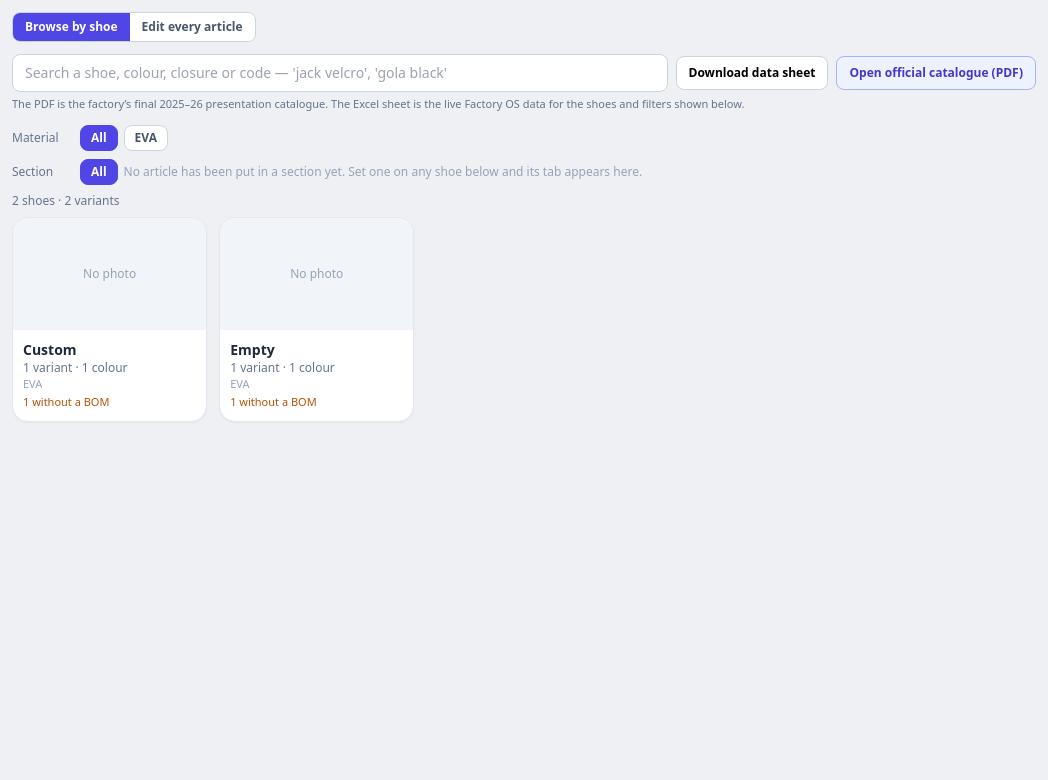
Test: deletes a catalogue-only item after an explicit confirmation
The image size is (1048, 780).
Click the button "Edit every article" at (192, 27), box left=130, top=13, right=255, bottom=41
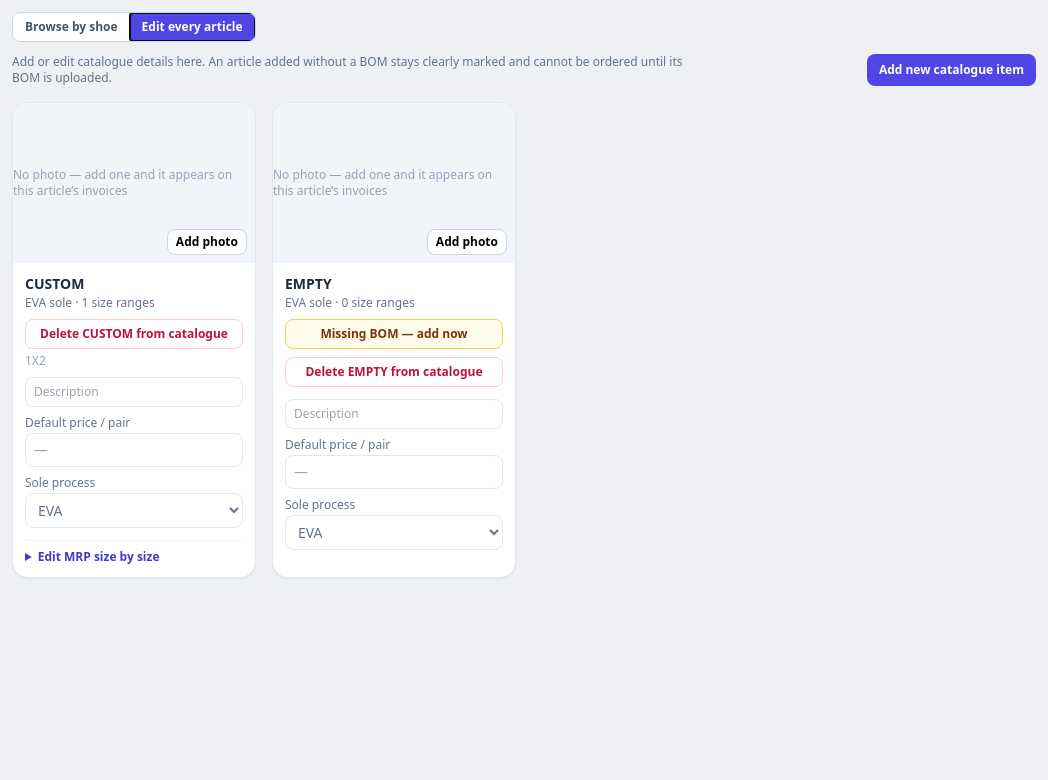
Click the button "Delete EMPTY from catalogue" at (394, 372), box left=285, top=356, right=503, bottom=386
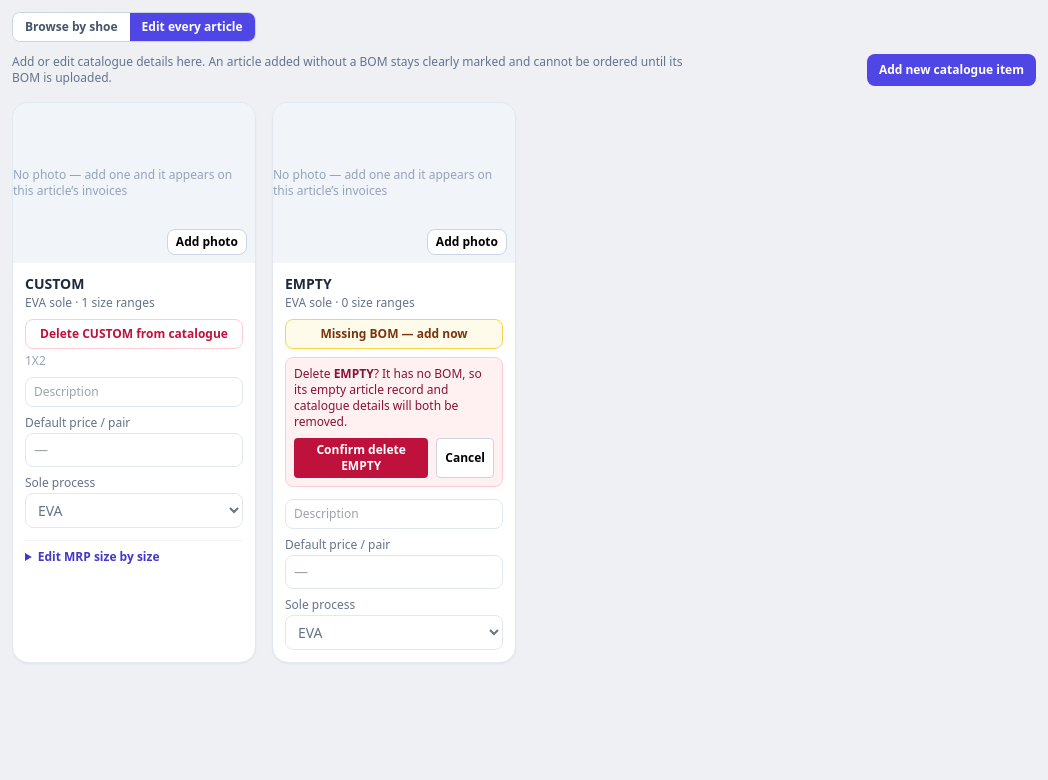
Click the button "Confirm delete EMPTY" at (361, 458), box left=294, top=438, right=428, bottom=478
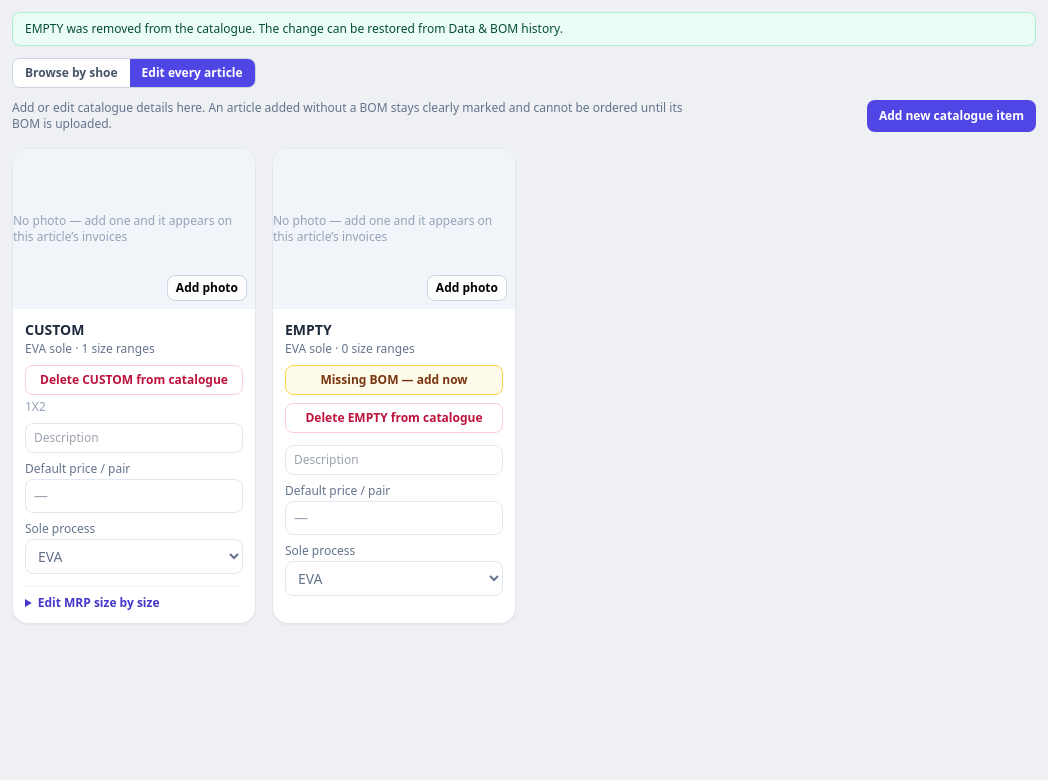
Now the text "EMPTY was removed from the catalogue" is shown, box left=25, top=20, right=563, bottom=37
